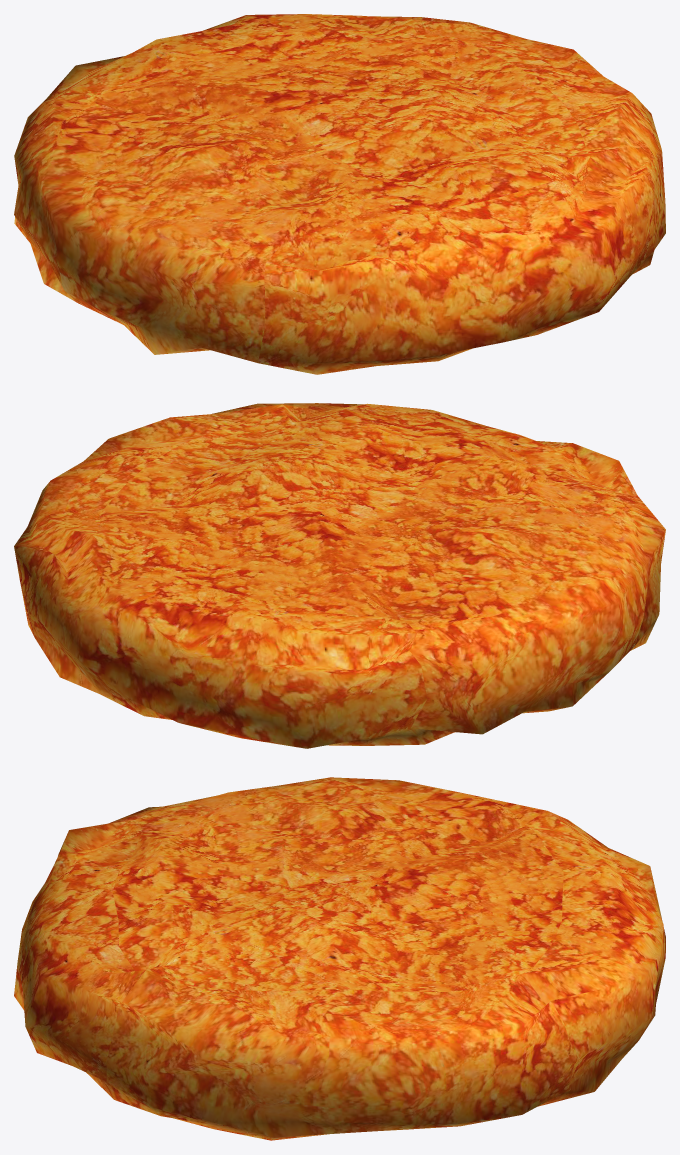
Rendered from chicken Burguer.fbx.
3 renders of one model, top to bottom at view 1: azimuth 30°, elevation 25°; view 2: azimuth 150°, elevation 25°; view 3: azimuth 270°, elevation 25°, orthographic. The views are drawn at different scales.
Visible parts, largest first — view 1: chicken Burguer; view 2: chicken Burguer; view 3: chicken Burguer.
Part boxes in pixels (x1,y1,x2,y2): chicken Burguer: (14,14,665,374); chicken Burguer: (14,403,665,748); chicken Burguer: (14,777,665,1140).
Bounding box in the file's own units: 252 × 66.84 × 250.
